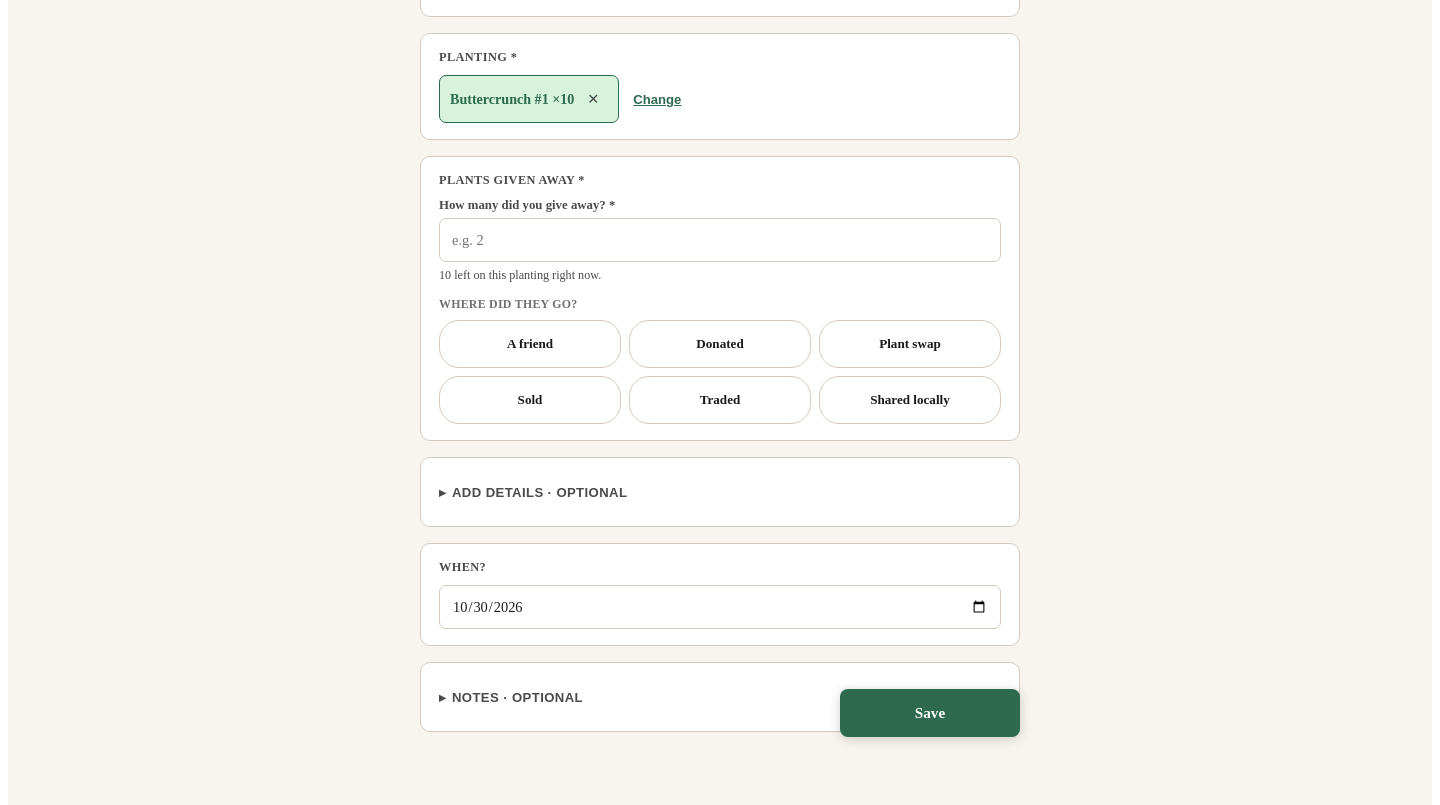
Test: the required capture panel renders for the reduction types and nothing else › the catch-all hint appears only once its chip is chosen
The image size is (1440, 805).
(page scrolled)
Click the button with test id "reduction-reason-community": x=910, y=400 [819, 376, 1001, 424]
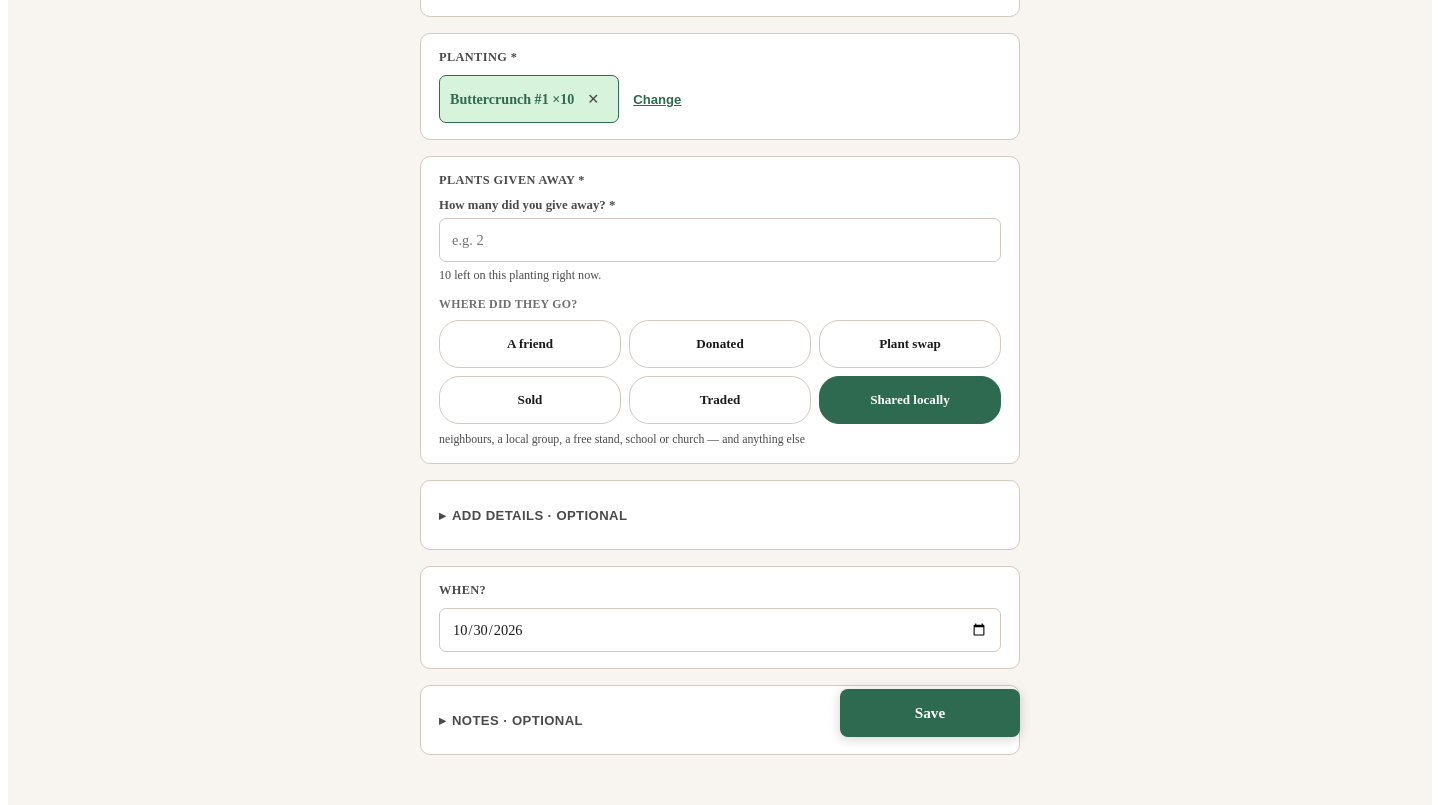
Now the text with test id "reduction-reason-hint" shows "neighbours", box [439, 432, 805, 446]
